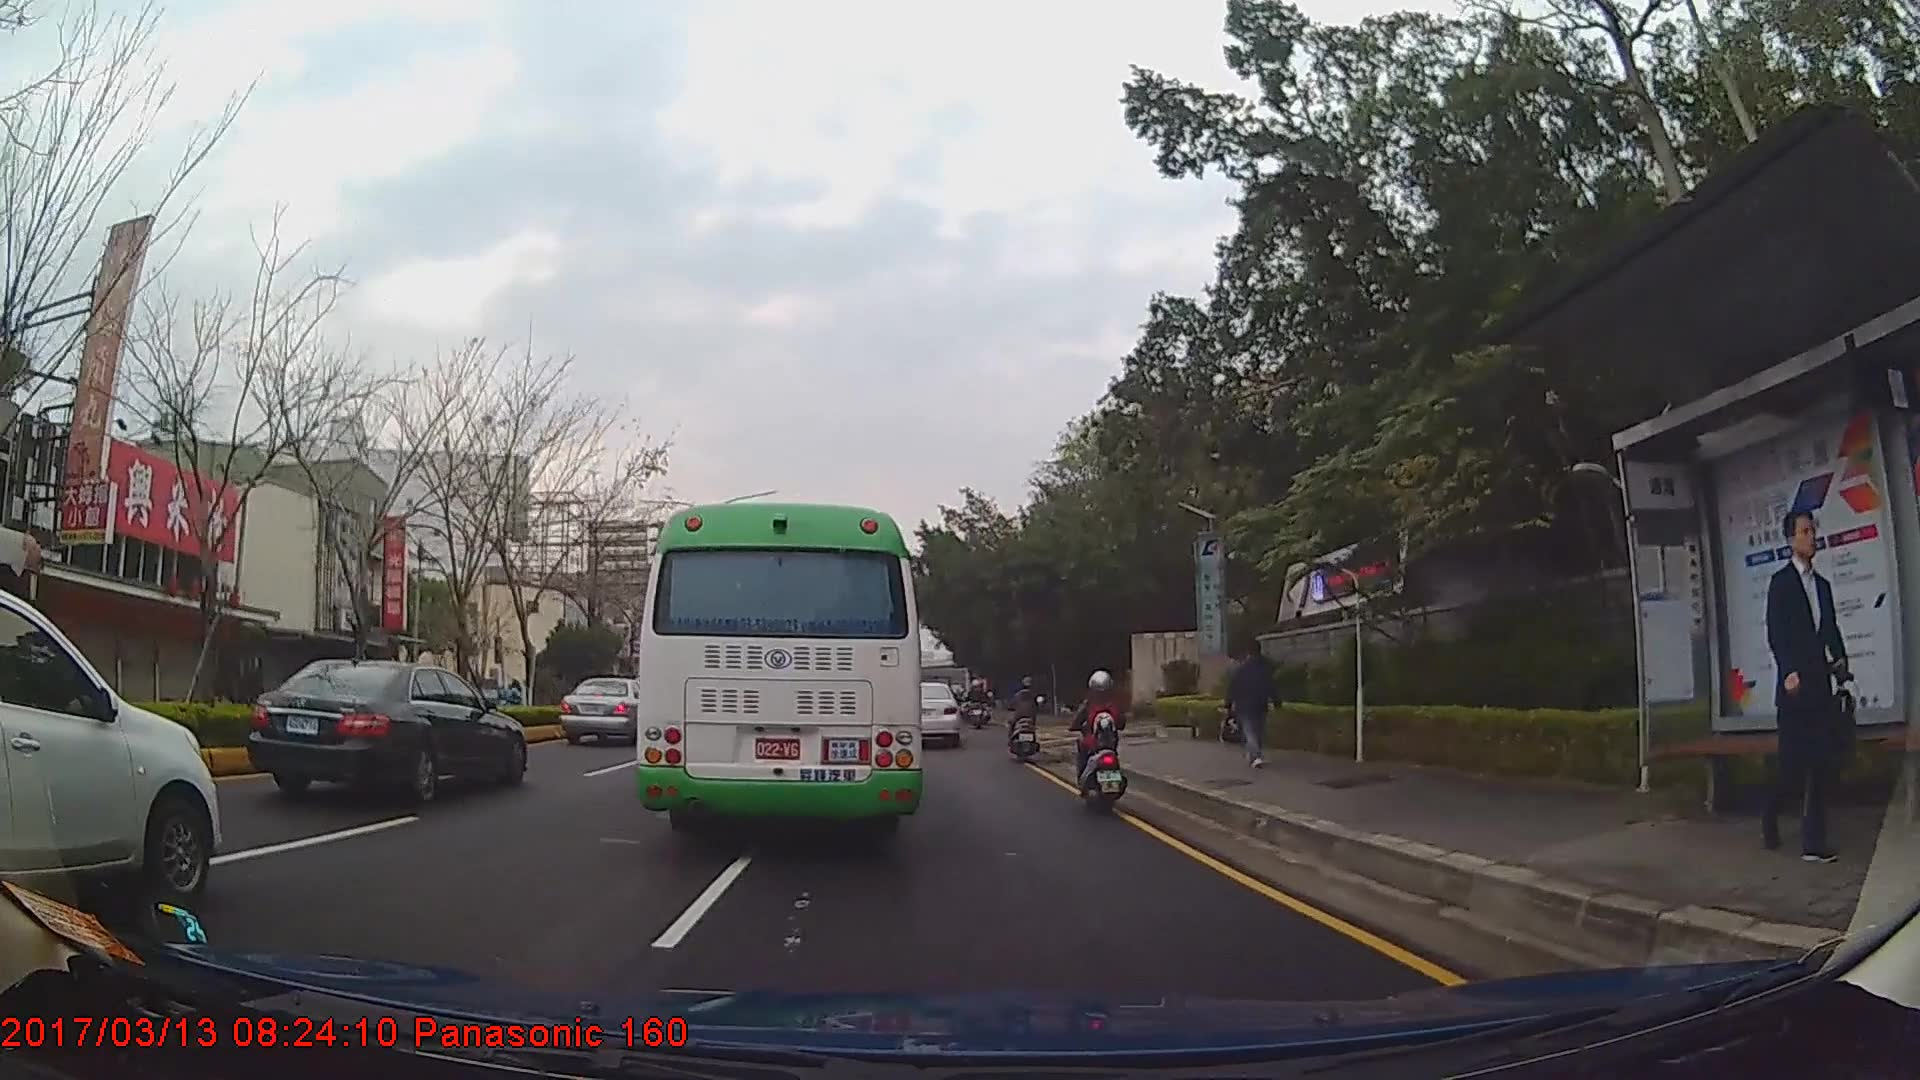pedestrian: (1760, 499, 1865, 865), (1223, 636, 1287, 772)
rider: (1073, 669, 1129, 810), (1008, 670, 1046, 759), (968, 679, 988, 716)
vehicle: (634, 505, 922, 848), (0, 588, 222, 910), (246, 655, 527, 805), (558, 674, 651, 746), (893, 681, 961, 751)
